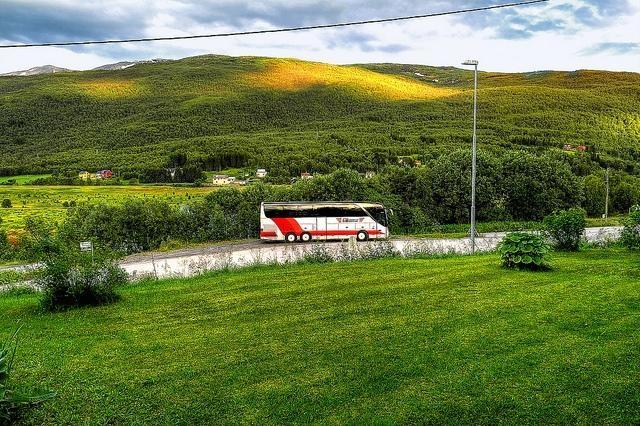bus: (260, 202, 393, 242)
